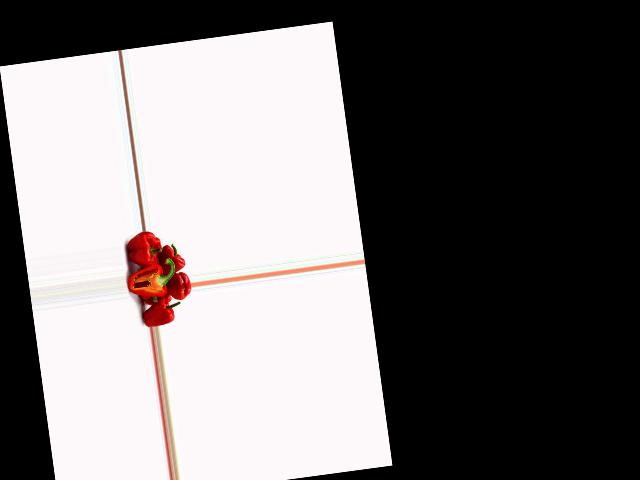bell_pepper: (158, 242, 186, 275)
